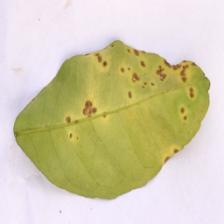canker: (49, 43, 224, 198)
